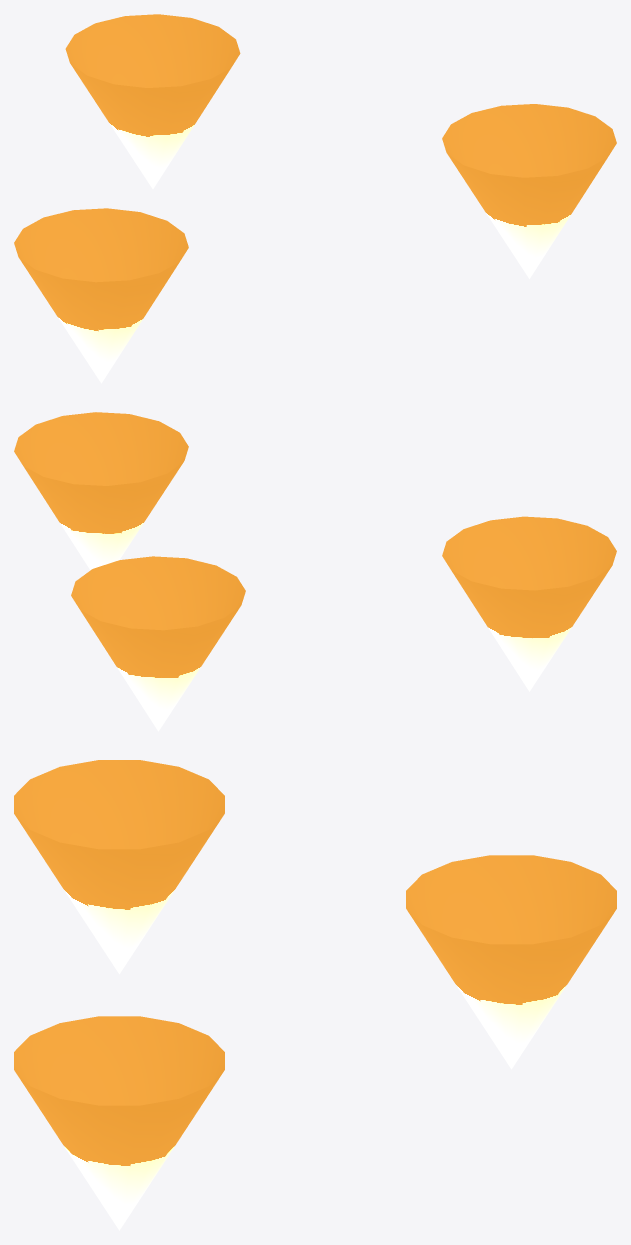
Rendered from droneafterburners.gltf.
3 renders of one model, top to bottom at view 1: azimuth 30°, elevation 25°; view 2: azimuth 150°, elevation 25°; view 3: azimuth 270°, elevation 25°, orthographic. The views are drawn at different scales.
Visible parts, largest first — view 1: AfterBurners; view 2: AfterBurners; view 3: AfterBurners.
Boxes of the visible parts, <box> form: AfterBurners: <box>14,14,616,383</box>; AfterBurners: <box>14,412,616,731</box>; AfterBurners: <box>14,760,616,1230</box>.
Bounding box in the file's own units: 7.14 × 1.94 × 5.27.
1 material, 1 textured.
